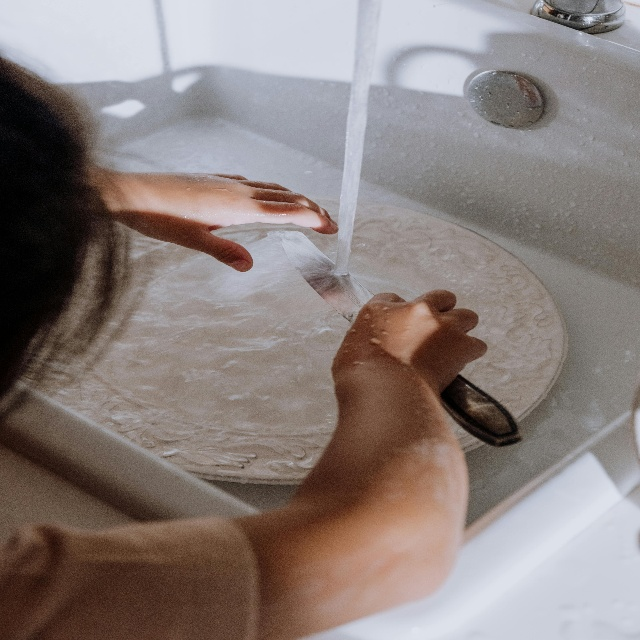Sin_guantes: (118, 170, 339, 272), (330, 288, 488, 396)
